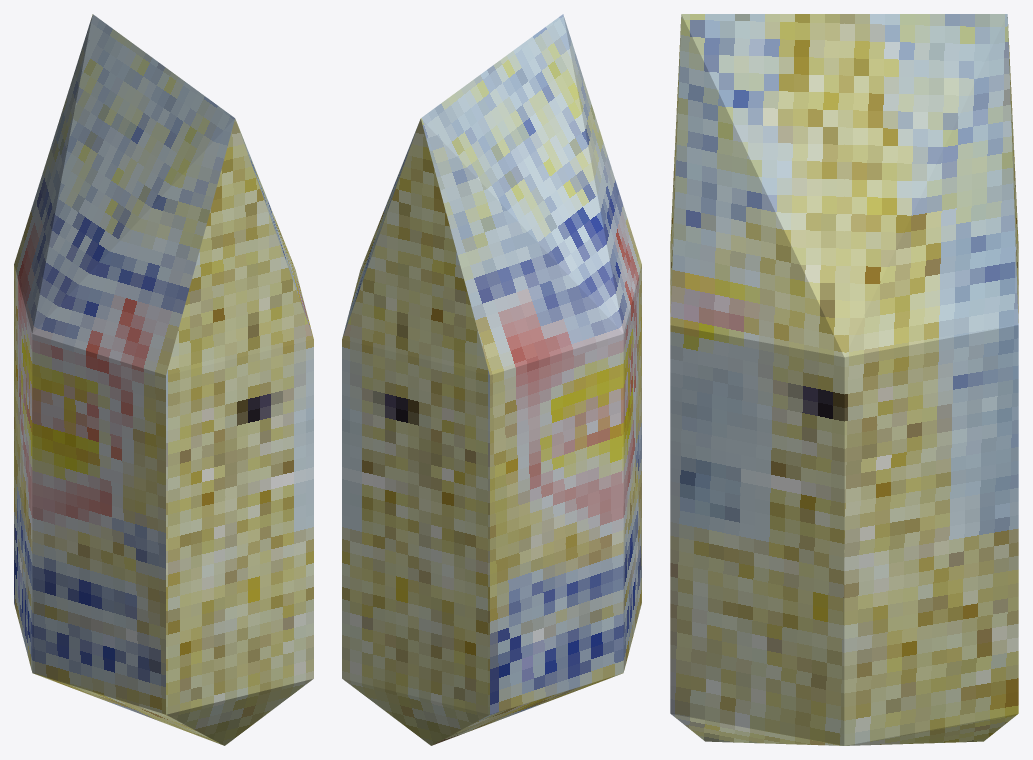
Rendered from popcorn.fbx.
The picture shows the model from 3 angles, left to right: view 1: azimuth 30°, elevation 25°; view 2: azimuth 150°, elevation 25°; view 3: azimuth 270°, elevation 25°; orthographic projection. The views are drawn at different scales.
Parts seen in each view (by area): view 1: Cube; view 2: Cube; view 3: Cube.
Part boxes in pixels (x1,y1,x2,y2): Cube: (14, 14, 313, 745); Cube: (342, 14, 641, 745); Cube: (670, 14, 1018, 745).
Size of the model in its own units: 56.2 by 130 by 56.2.
